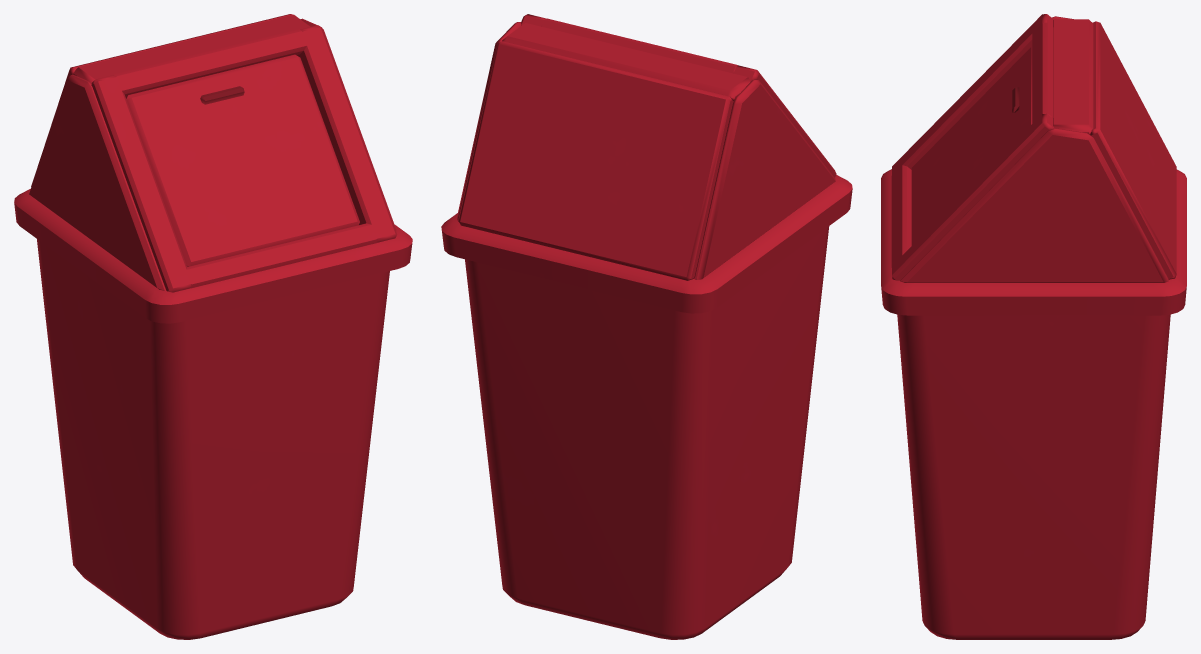
Rendered from cesto_lixo_realista.glb.
3 renders of one model, left to right at view 1: azimuth 30°, elevation 25°; view 2: azimuth 150°, elevation 25°; view 3: azimuth 270°, elevation 25°, orthographic. The views are drawn at different scales.
Visible parts, largest first — view 1: Lixeira_Vermelha_Papel, Portinhola_Pivo_X; view 2: Lixeira_Vermelha_Papel; view 3: Lixeira_Vermelha_Papel, Portinhola_Pivo_X.
Part boxes in pixels (x1=…): Lixeira_Vermelha_Papel: x1=14, y1=14, x2=412, y2=639; Portinhola_Pivo_X: x1=126, y1=54, x2=359, y2=266; Lixeira_Vermelha_Papel: x1=441, y1=14, x2=852, y2=639; Lixeira_Vermelha_Papel: x1=881, y1=14, x2=1186, y2=639; Portinhola_Pivo_X: x1=911, y1=47, x2=1032, y2=245.
Size of the model in its own units: 0.27 by 0.5141 by 0.27.
1 material, 1 textured.
